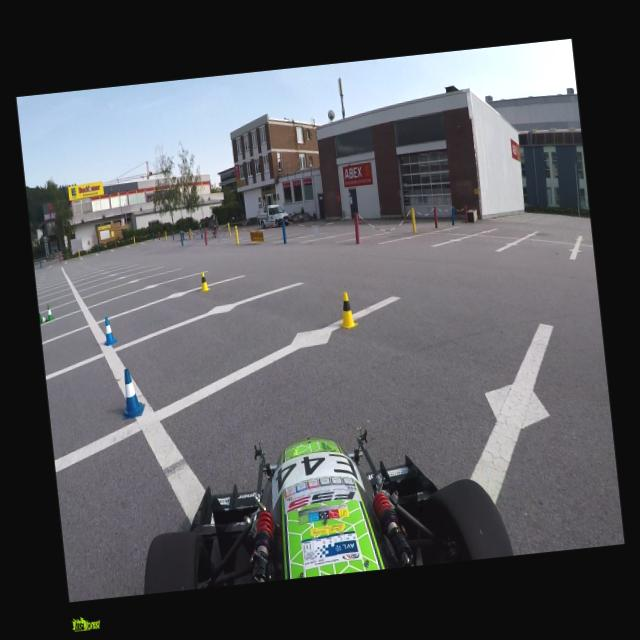blue_cone: (119, 369, 142, 415), (100, 316, 116, 344)
unknown_cone: (46, 303, 54, 320), (38, 310, 47, 324)
yellow_cone: (336, 290, 357, 328), (198, 270, 210, 292)
